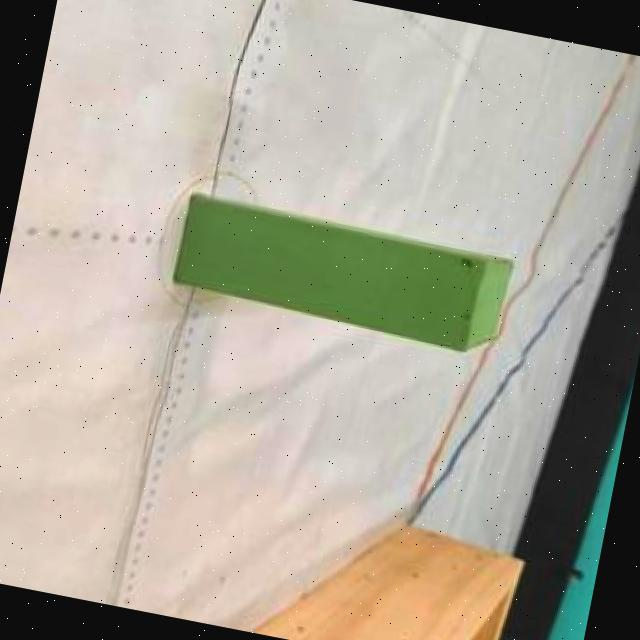greenbox: (168, 191, 522, 363)
